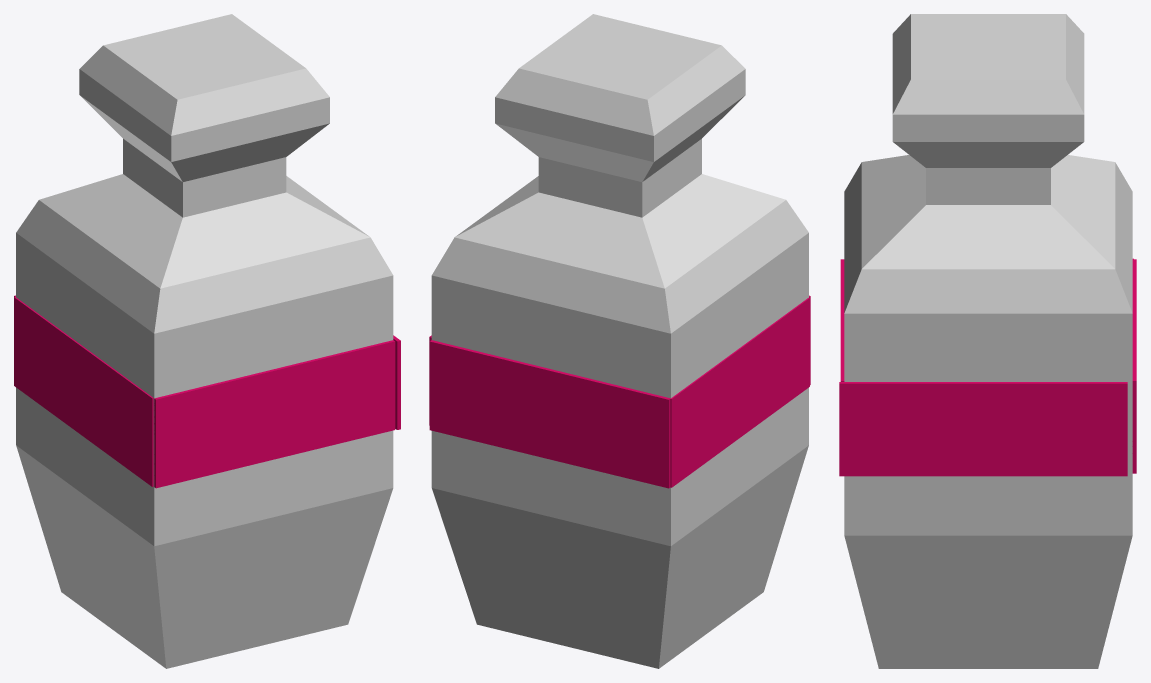
The model's file is Glass Bottle.fbx.
3 views of the same model, side by side, from view 1: azimuth 30°, elevation 25°; view 2: azimuth 150°, elevation 25°; view 3: azimuth 270°, elevation 25° (orthographic). The views are drawn at different scales.
Parts seen in each view (by area): view 1: Cube, Plane, Plane.003; view 2: Cube, Plane.001, Plane.003; view 3: Cube, Plane.002, Plane.001, Plane.
Part boxes in pixels (<box>): Cube: <box>16,14,393,668</box>; Plane: <box>154,340,395,488</box>; Plane.003: <box>14,297,153,486</box>; Cube: <box>431,14,808,668</box>; Plane.001: <box>429,340,670,488</box>; Plane.003: <box>668,298,809,487</box>; Cube: <box>844,14,1132,668</box>; Plane.002: <box>839,382,1127,476</box>; Plane.001: <box>1132,259,1136,473</box>; Plane: <box>840,259,844,381</box>.
Size of the model in its own units: 205 by 441 by 206.
